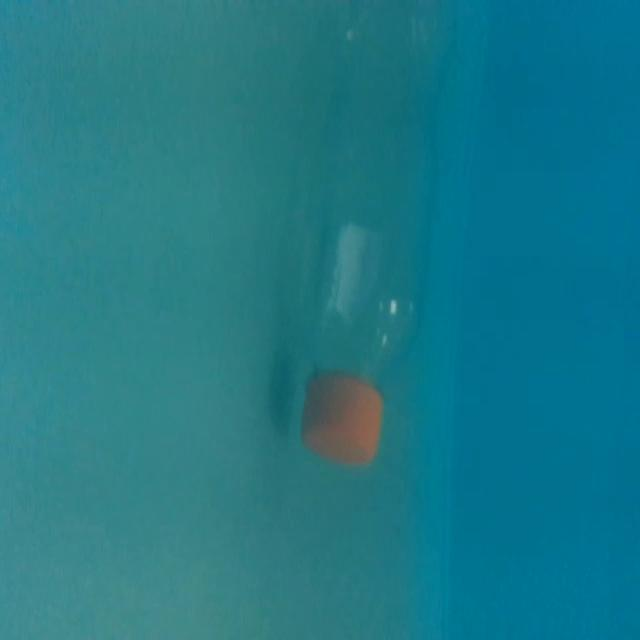plastic bottle: (261, 0, 483, 491)
